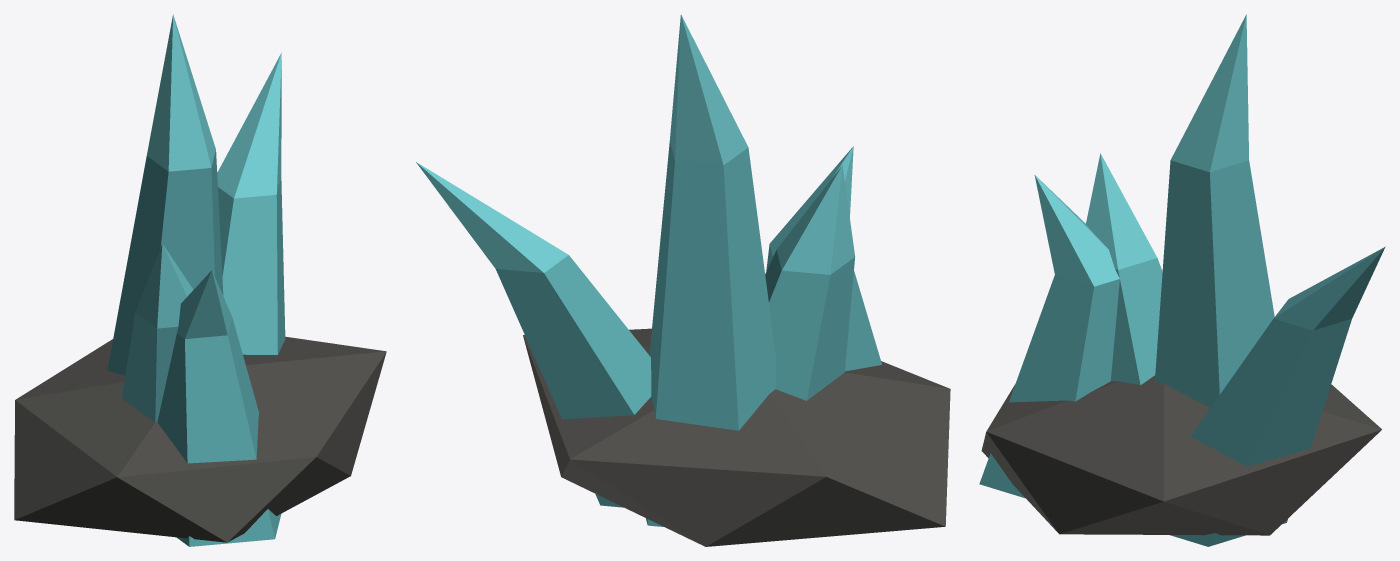
Rendered from glow_crystal.glb.
3 renders of one model, left to right at view 1: azimuth 30°, elevation 25°; view 2: azimuth 150°, elevation 25°; view 3: azimuth 270°, elevation 25°, orthographic. The views are drawn at different scales.
Parts seen in each view (by area): view 1: glow_crystal; view 2: glow_crystal; view 3: glow_crystal.
Boxes of the visible parts, x1,y1,x2,y2 form: glow_crystal: [14, 14, 386, 546]; glow_crystal: [416, 14, 950, 546]; glow_crystal: [979, 14, 1385, 546].
Bounding box in the file's own units: 0.8086 × 0.9567 × 0.6881.
1 material, 1 textured.
